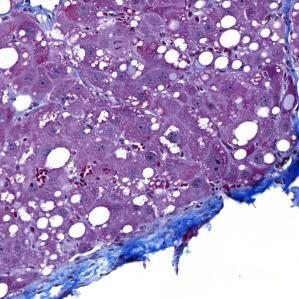fibrosis: (19, 5, 65, 34)
